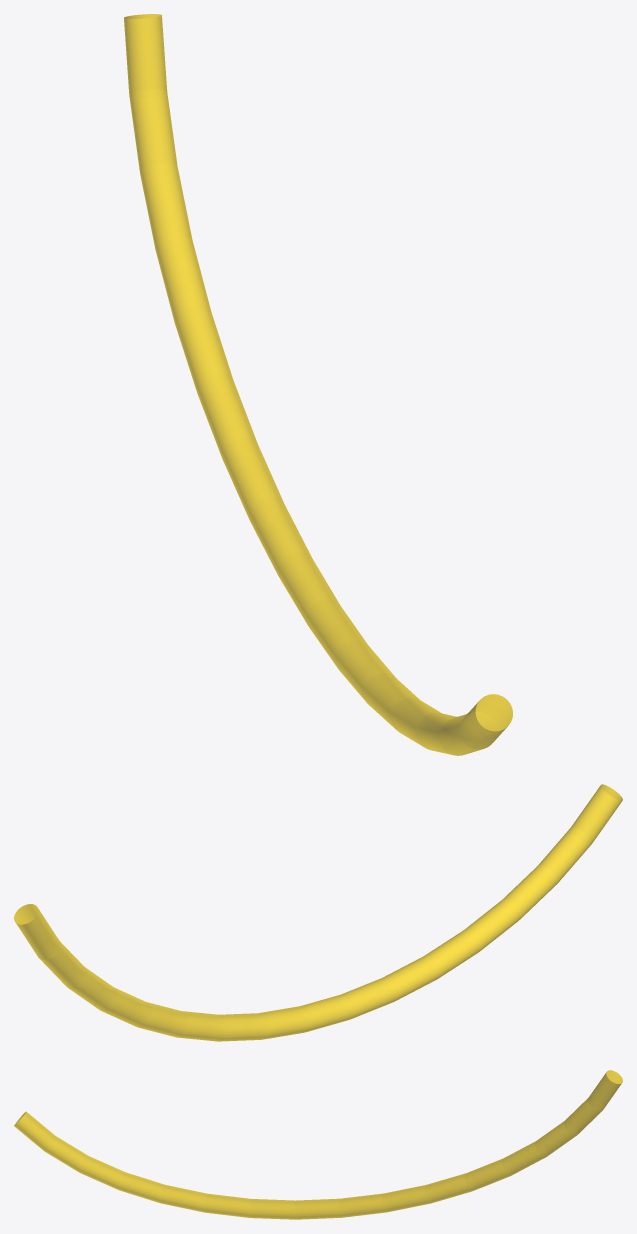
The model's file is Event_17758602_track_119.fbx.
3 views of the same model, one above another, from view 1: azimuth 30°, elevation 25°; view 2: azimuth 150°, elevation 25°; view 3: azimuth 270°, elevation 25° (orthographic). The views are drawn at different scales.
Parts seen in each view (by area): view 1: Model; view 2: Model; view 3: Model.
Boxes of the visible parts, bbox=[...] form: Model: bbox=[124, 14, 512, 755]; Model: bbox=[14, 784, 622, 1041]; Model: bbox=[14, 1070, 622, 1219].
Bounding box in the file's own units: 0.3311 × 0.4176 × 1.27.
